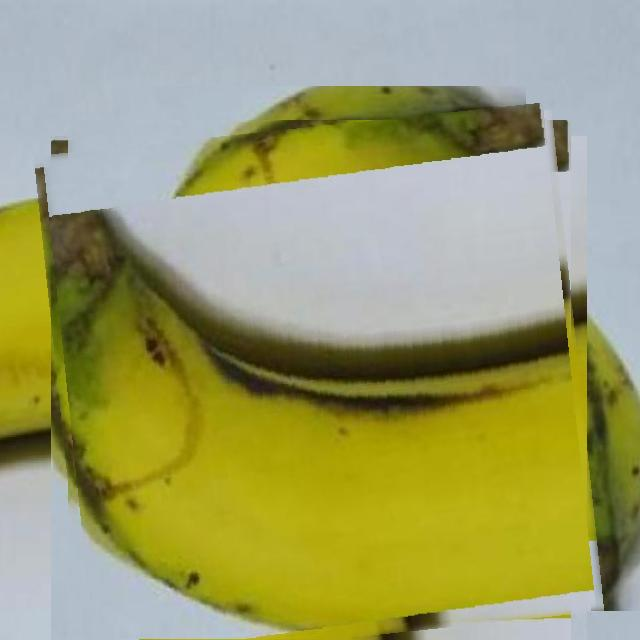Madura: (46, 115, 591, 640)
